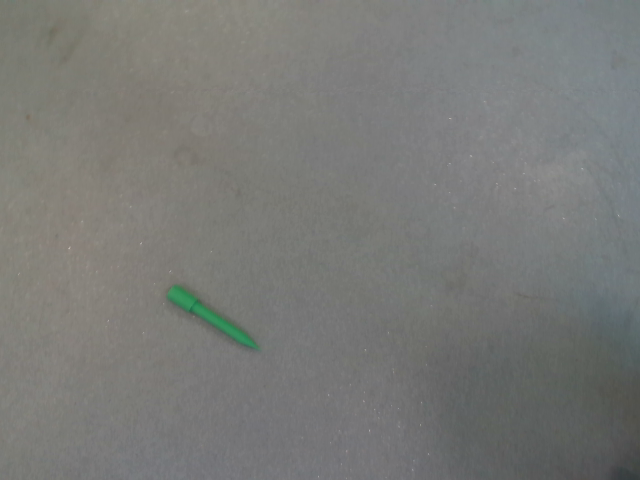Probe: (160, 278, 268, 356)
